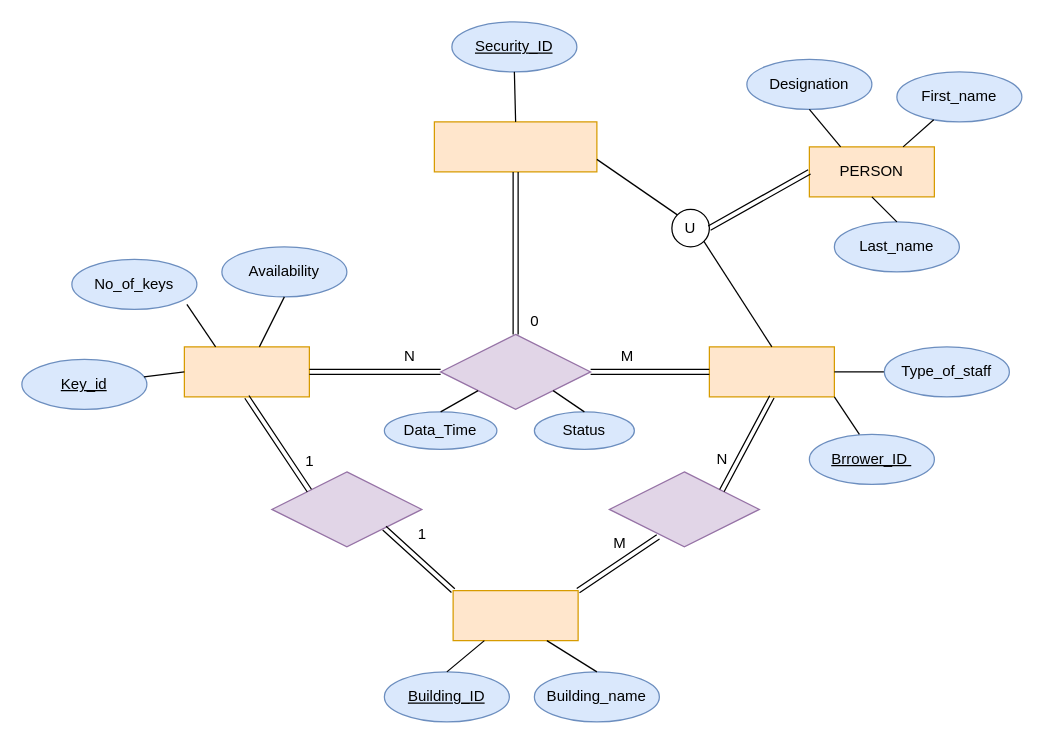
This 1044x744 diagram has some shape labels left out. Here are the shapes that lost their labels. From the top down, the box of each, then its label:
(433, 121, 597, 172): SECURITY_PERSON
(183, 346, 309, 397): KEY
(439, 333, 591, 409): Borrows
(708, 346, 834, 397): BORROWER
(271, 471, 422, 547): Unlocks
(608, 471, 759, 547): Can_access
(452, 589, 578, 641): BUILDING
